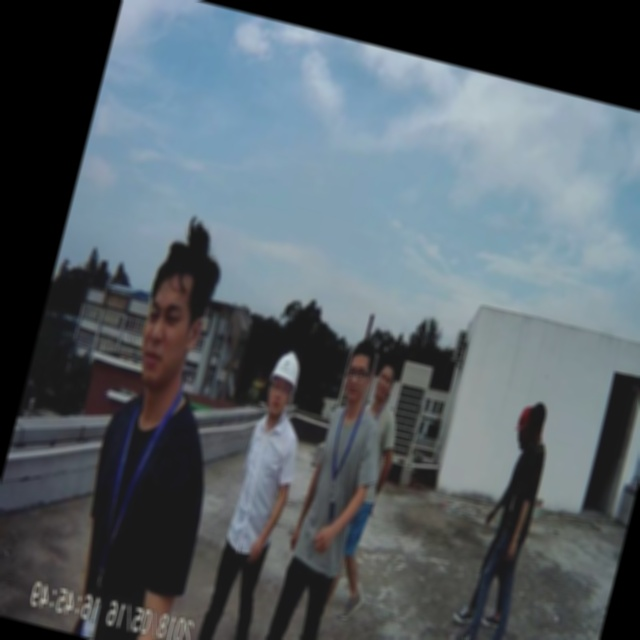Con_Casco: (263, 348, 306, 420)
Sin_Casco_Mascarrilla: (338, 336, 382, 405)
